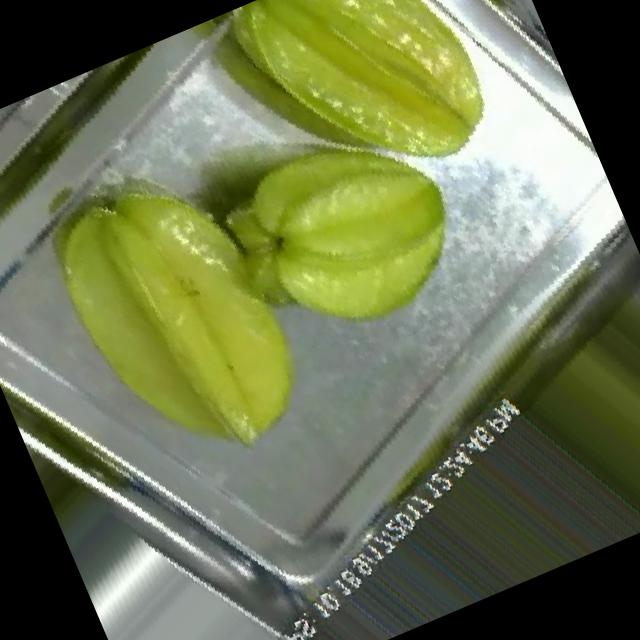fruit: (0, 74, 422, 554), (168, 38, 542, 422), (175, 0, 556, 264), (474, 238, 640, 557)
